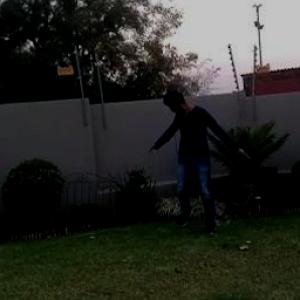land: (135, 88, 253, 242)
